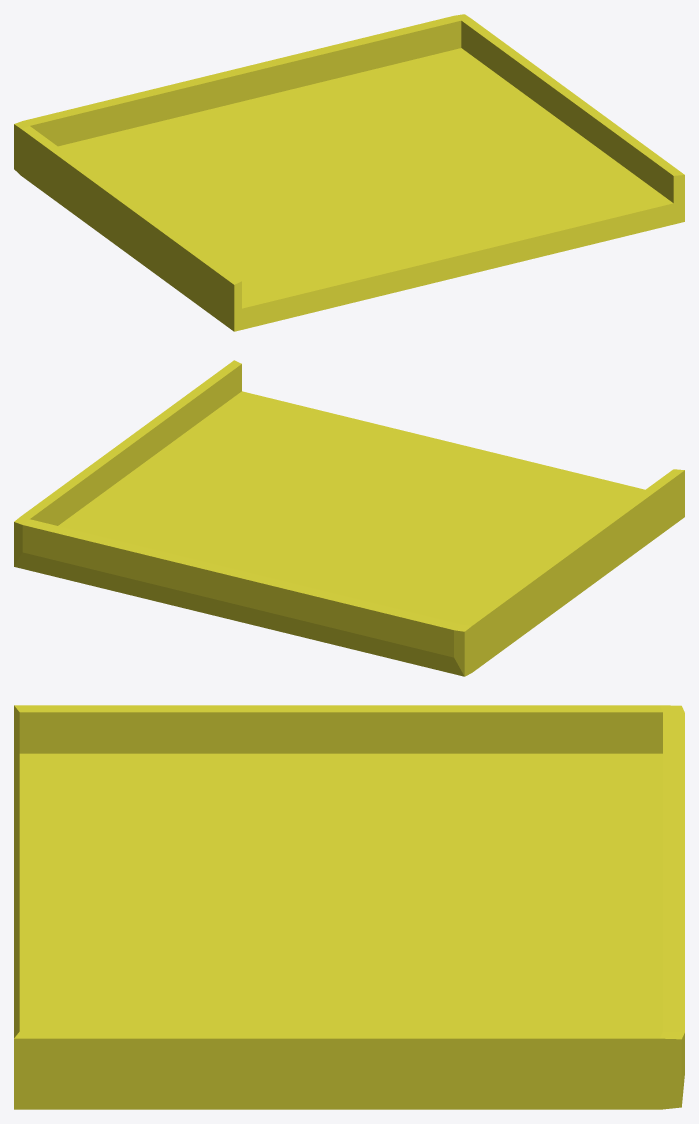
File: golfsquare_end.glb
3 views of the same model, one above another, from view 1: azimuth 30°, elevation 25°; view 2: azimuth 150°, elevation 25°; view 3: azimuth 270°, elevation 25° (orthographic). The views are drawn at different scales.
Visible parts, largest first — view 1: Cube; view 2: Cube; view 3: Cube.
Part boxes in pixels (bbox=[...]): Cube: bbox=[14, 14, 684, 331]; Cube: bbox=[14, 360, 684, 676]; Cube: bbox=[14, 705, 684, 1109].
Bounding box in the file's own units: 13.16 × 1.31 × 11.19.
